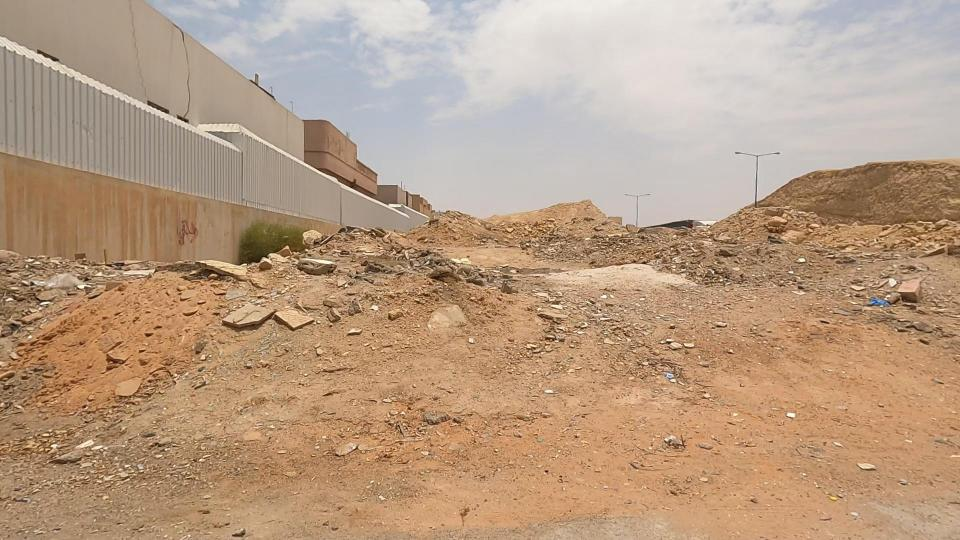GARBAGE: (0, 212, 181, 343), (797, 235, 947, 365), (626, 344, 701, 406)
